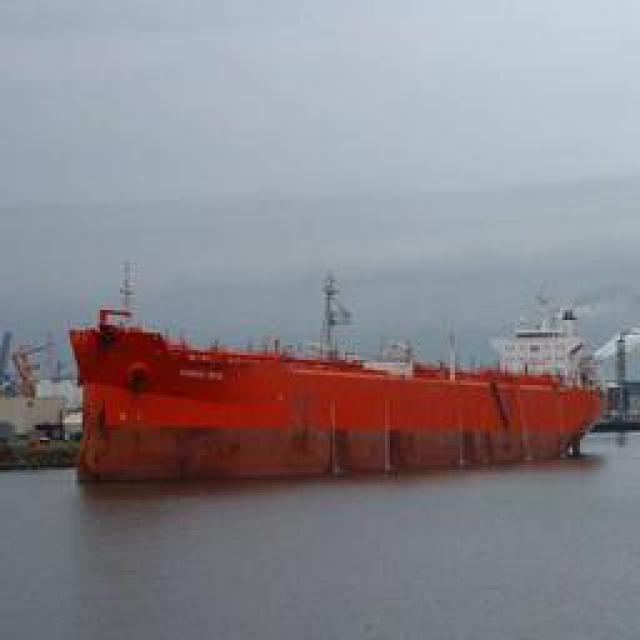Ship: (52, 285, 610, 485)
